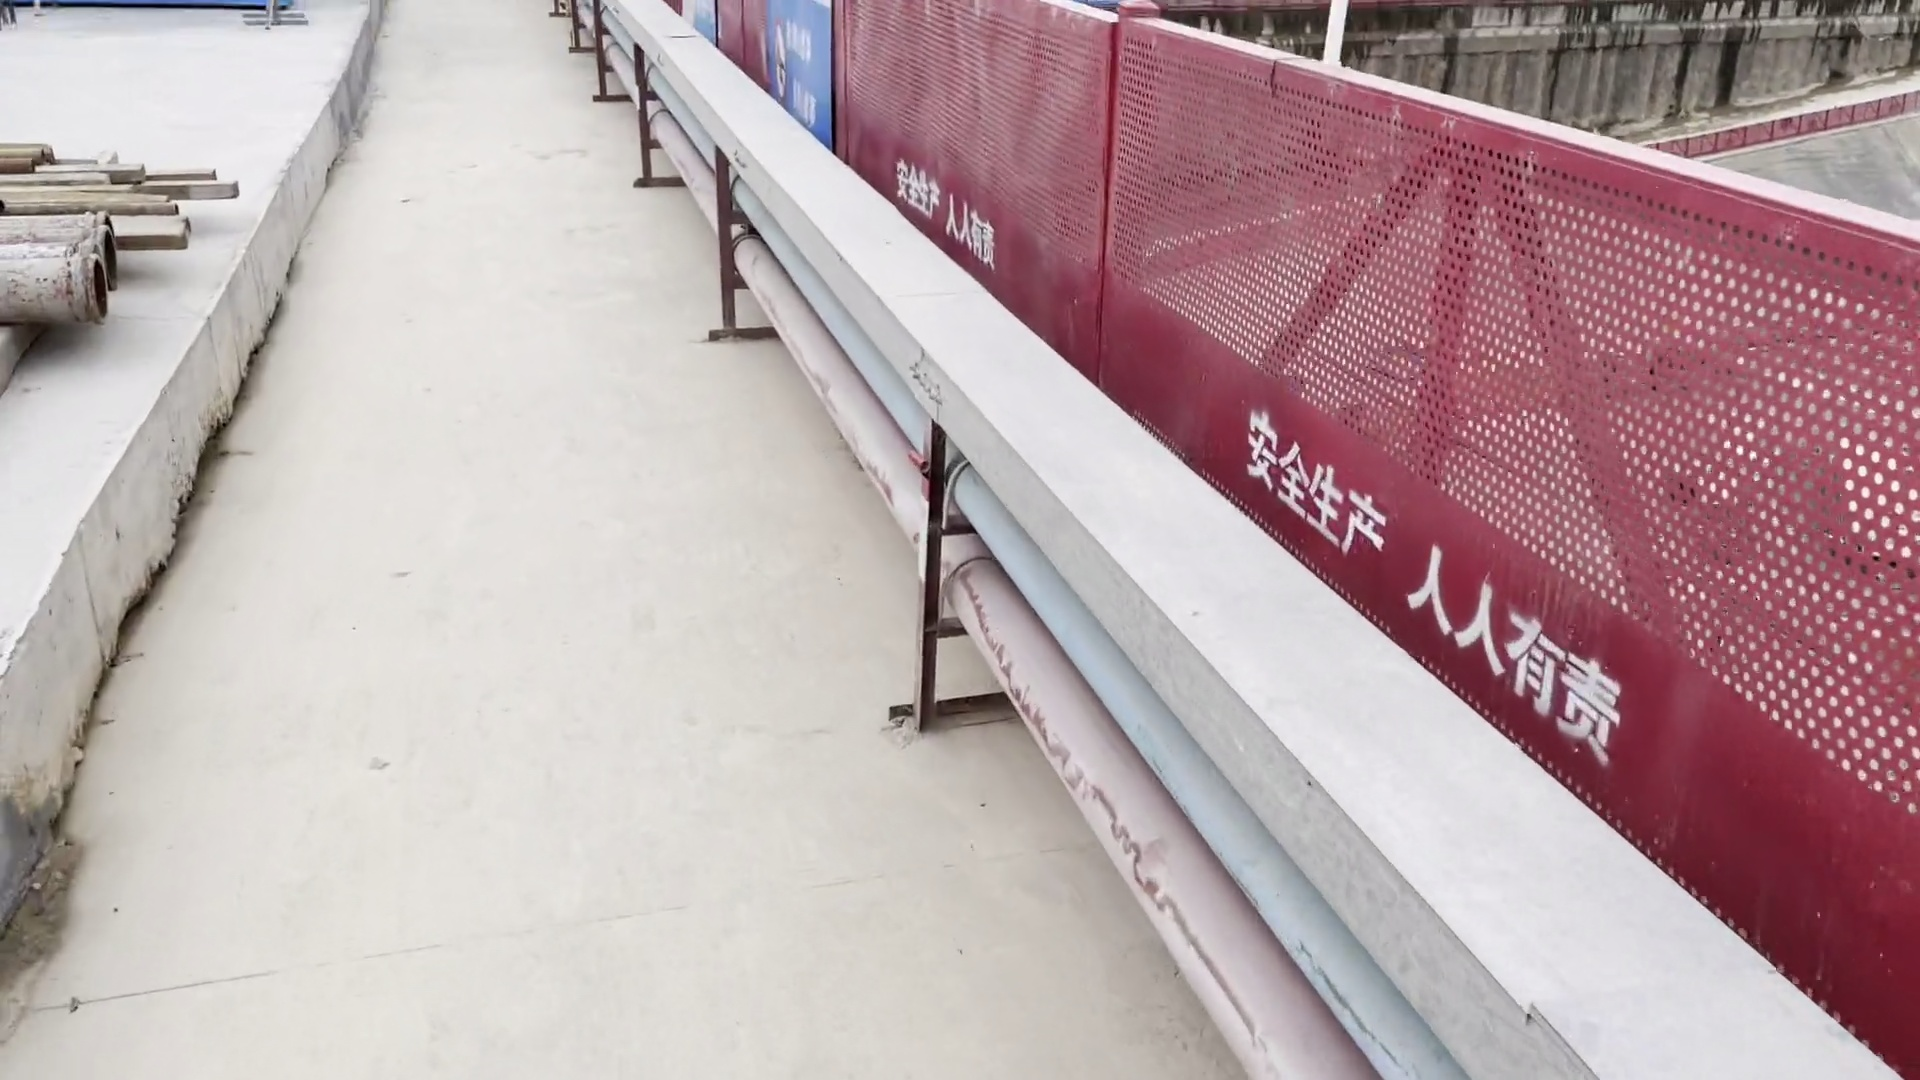fence: (1244, 57, 1920, 1080), (658, 1, 1247, 566)
slogan: (754, 1, 872, 177), (683, 1, 731, 49)
wood: (1, 131, 252, 251)
